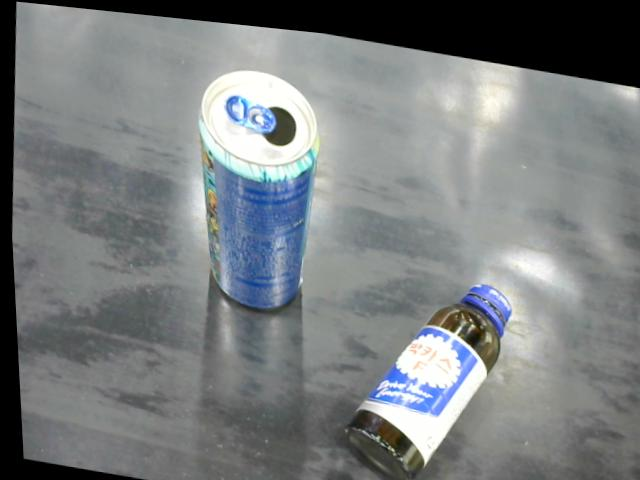can: (181, 53, 332, 315)
glass: (337, 271, 511, 478)
